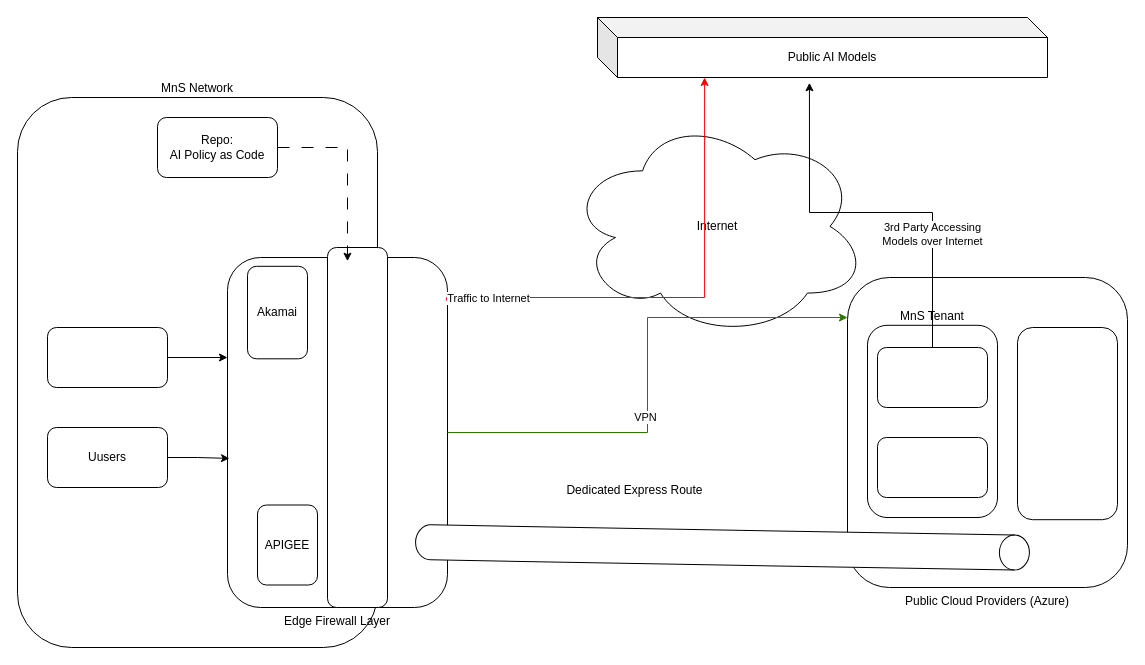
The diagram is 1145 pixels wide and 665 high, and some of its shapes have lost their labels. Each missing label, with the centre of its shape:
AI Gateway: (x=357, y=427)
Applications: (x=107, y=357)
Azure Owned Models: (x=1067, y=423)
Managed Services s using Public AI (SaaS): (x=932, y=377)
Models hosted on MnS Cloud tenant (Mns Owned): (x=932, y=467)
